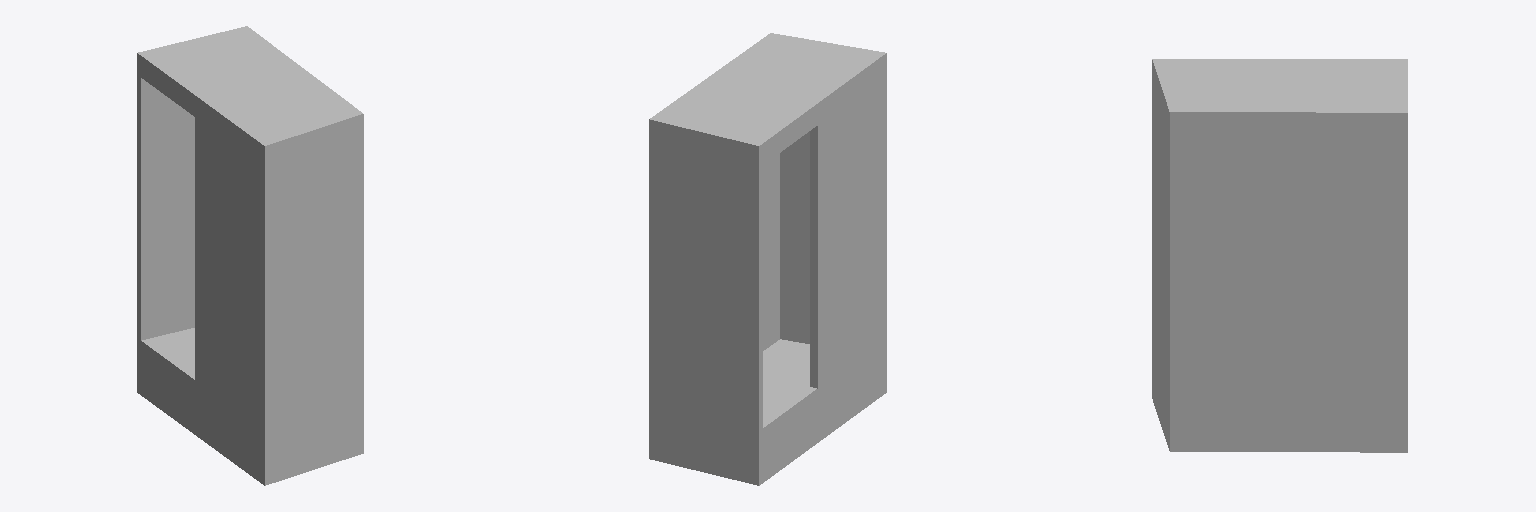
File: concierge1_rdc.obj
3 views of the same model, side by side, from view 1: azimuth 30°, elevation 25°; view 2: azimuth 150°, elevation 25°; view 3: azimuth 270°, elevation 25° (orthographic).
Parts seen in each view (by area): view 1: Concierge1_RDC_Cube.023; view 2: Concierge1_RDC_Cube.023; view 3: Concierge1_RDC_Cube.023.
Boxes of the visible parts, <box> form: Concierge1_RDC_Cube.023: <box>137,26,363,485</box>; Concierge1_RDC_Cube.023: <box>649,33,886,485</box>; Concierge1_RDC_Cube.023: <box>1152,59,1407,452</box>.
Bounding box in the file's own units: 1.05 × 3.1 × 2.11.